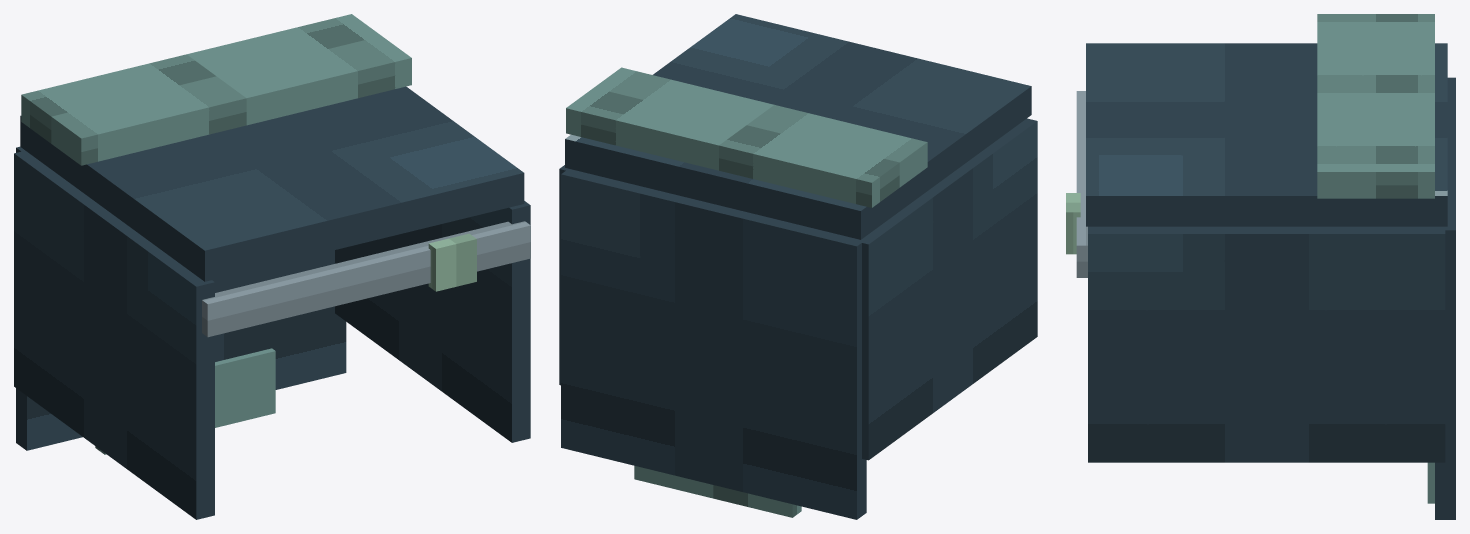
File: qi_moqing_helmet.obj
3 renders of one model, left to right at view 1: azimuth 30°, elevation 25°; view 2: azimuth 150°, elevation 25°; view 3: azimuth 270°, elevation 25°, orthographic. The views are drawn at different scales.
Parts seen in each view (by area): view 1: cap_top, cap_side_-1, crown_fold, cap_side_1, cap_brow, cap_back, nape_lining, crown_jade; view 2: cap_back, cap_side_-1, cap_top, crown_fold, nape_lining; view 3: cap_side_1, cap_top, crown_fold, cap_back, cap_brow, crown_jade.
Part boxes in pixels (x1,y1,x2,y2): cap_top: (20,86,524,281); cap_side_-1: (14,151,214,519); crown_fold: (21,14,411,165); cap_side_1: (335,201,530,442); cap_brow: (202,221,530,337); cap_back: (16,146,346,450); nape_lining: (95,348,275,454); crown_jade: (428,233,476,291); cap_back: (561,170,866,519); cap_side_-1: (862,118,1037,460); cap_top: (565,14,1031,239); crown_fold: (566,67,927,207); nape_lining: (634,465,801,517); cap_side_1: (1088,226,1445,462); cap_top: (1086,43,1447,226); crown_fold: (1317,14,1434,198); cap_back: (1435,77,1455,519); cap_brow: (1076,91,1087,277); crown_jade: (1066,193,1080,254).
Size of the model in its own units: 0.5625 by 0.6062 by 0.5797.
